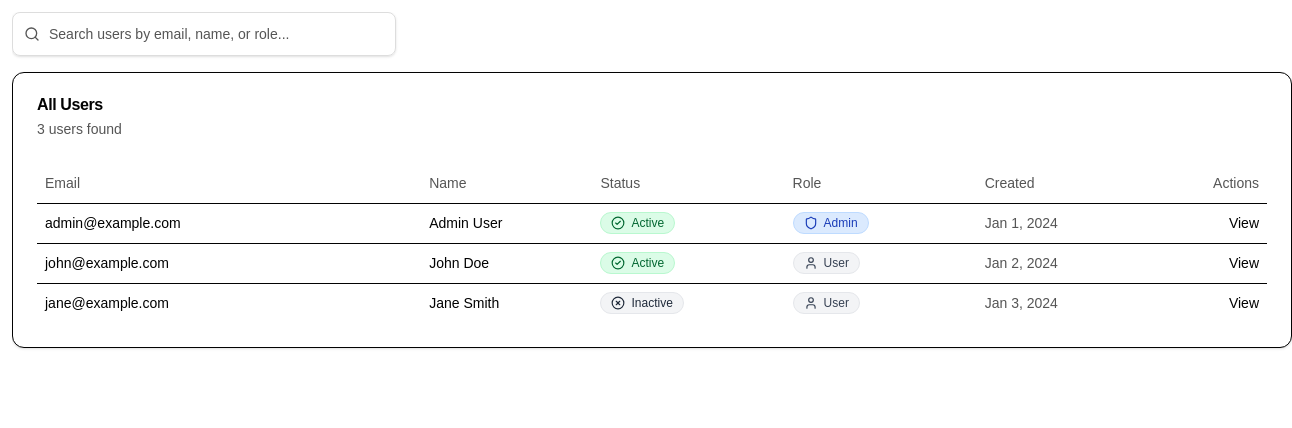
Test case: UserListTableWithSearch › shows empty state when no users match search
The image size is (1292, 428).
// Search for non-existent user
Step 1. Type "nonexistent" into the field with placeholder "Search users by email, name, or role..." → x=204, y=34, box [12,12,396,56]
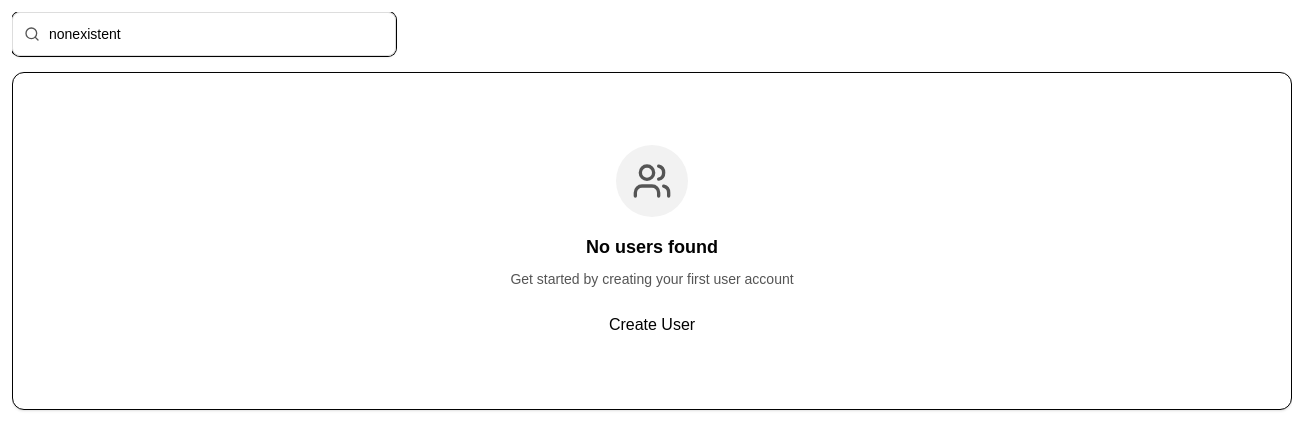
Result: the heading "No users found" is shown at [586,233,718,261]
Result: the text "admin@example.com" is gone
Result: the text "john@example.com" is gone
